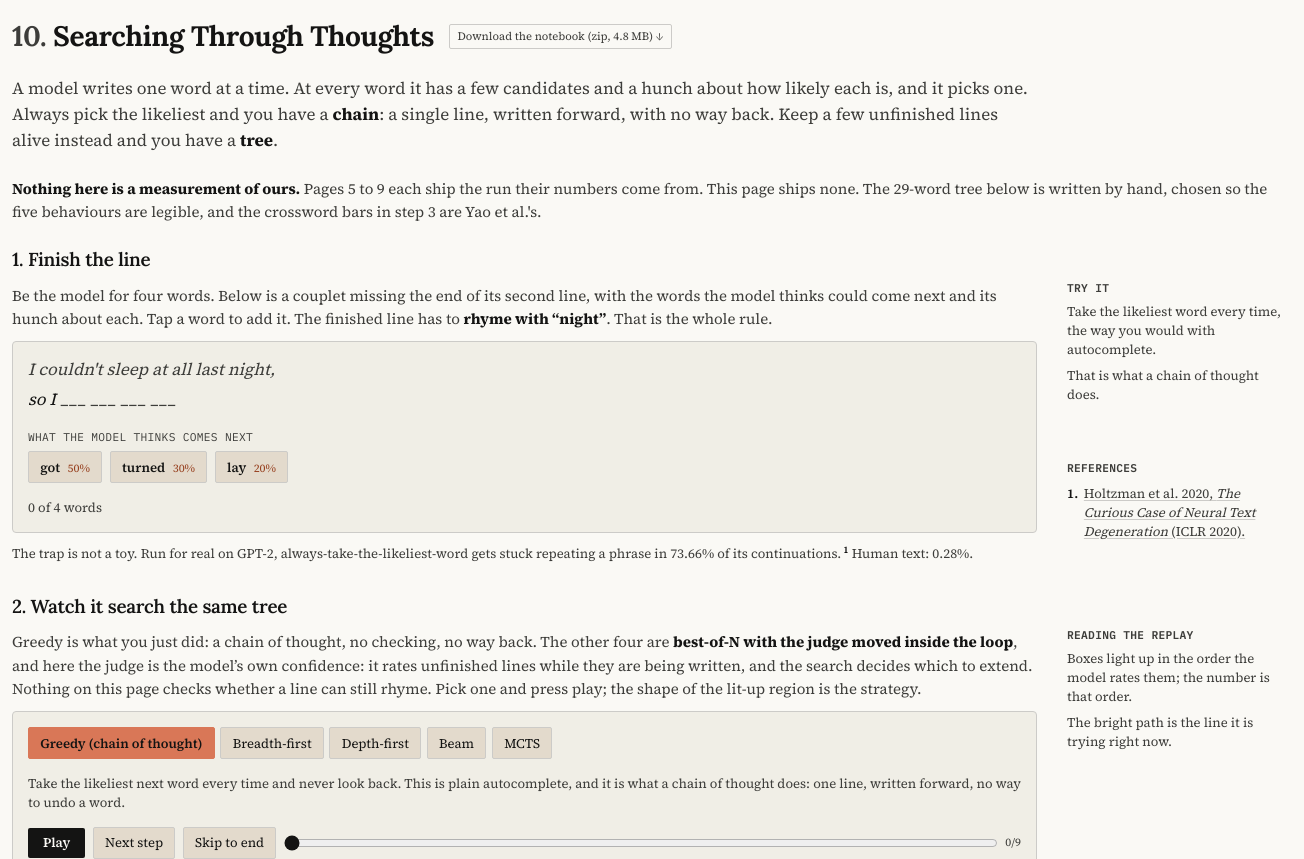
it: Page 10 — step 2, the replay › animates MCTS by whole trials, with the trace recording each
Click the button "MCTS": (522, 743) [492,727,552,759]
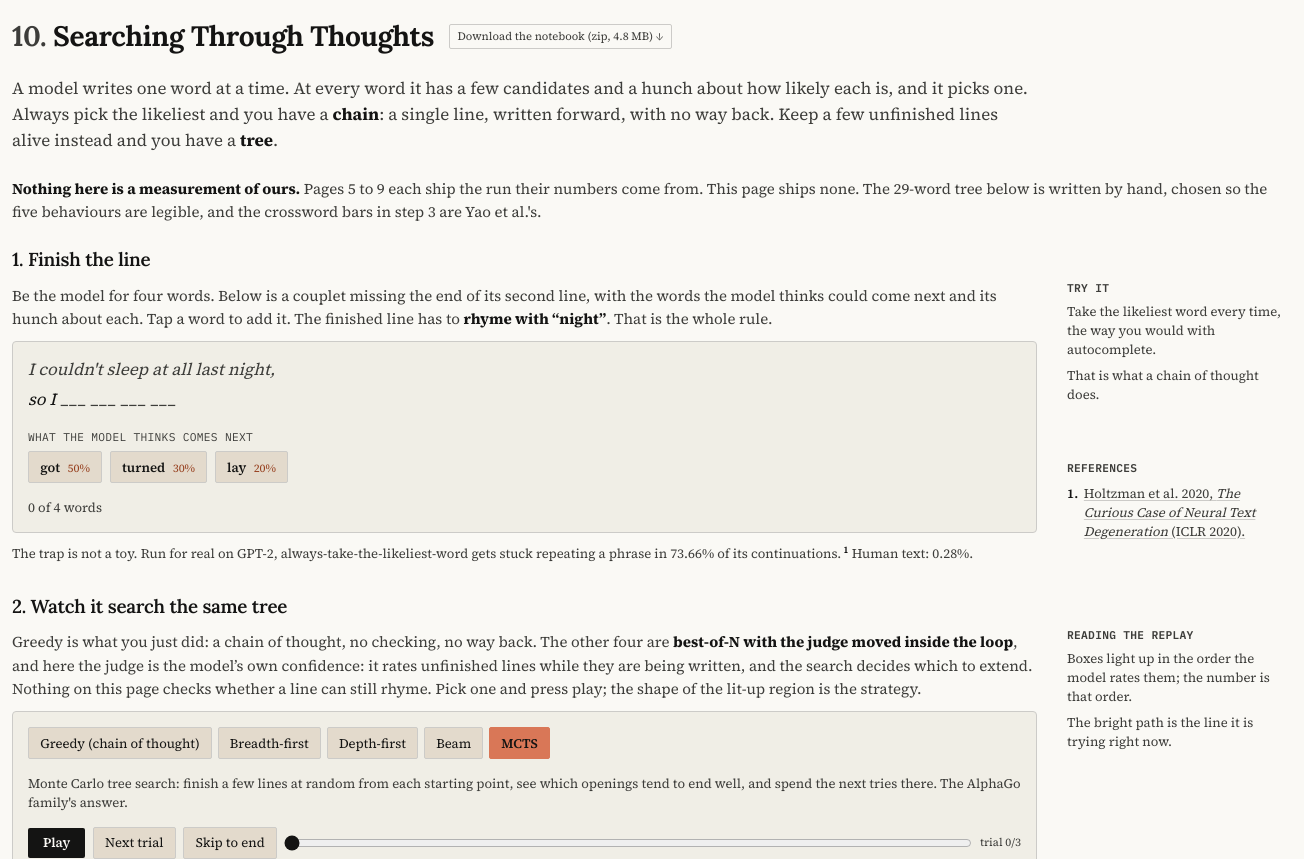
Expected: the text "trial 0/3" is shown, [980,835,1021,850]
Set the slider named "search step" to "1": (516, 843) [284,835,972,851]
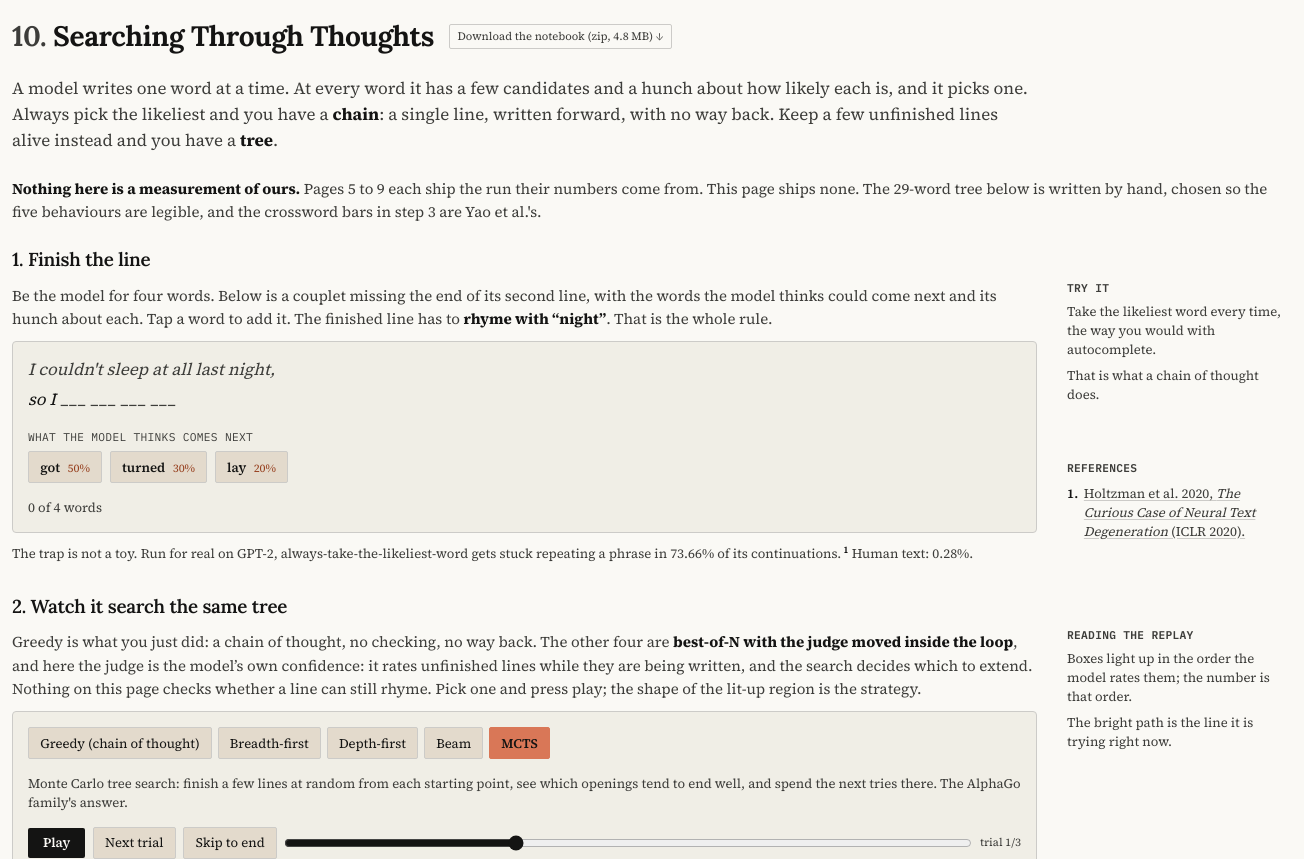
Set the slider named "search step" to "3": (964, 843) [284,835,972,851]
(page scrolled)
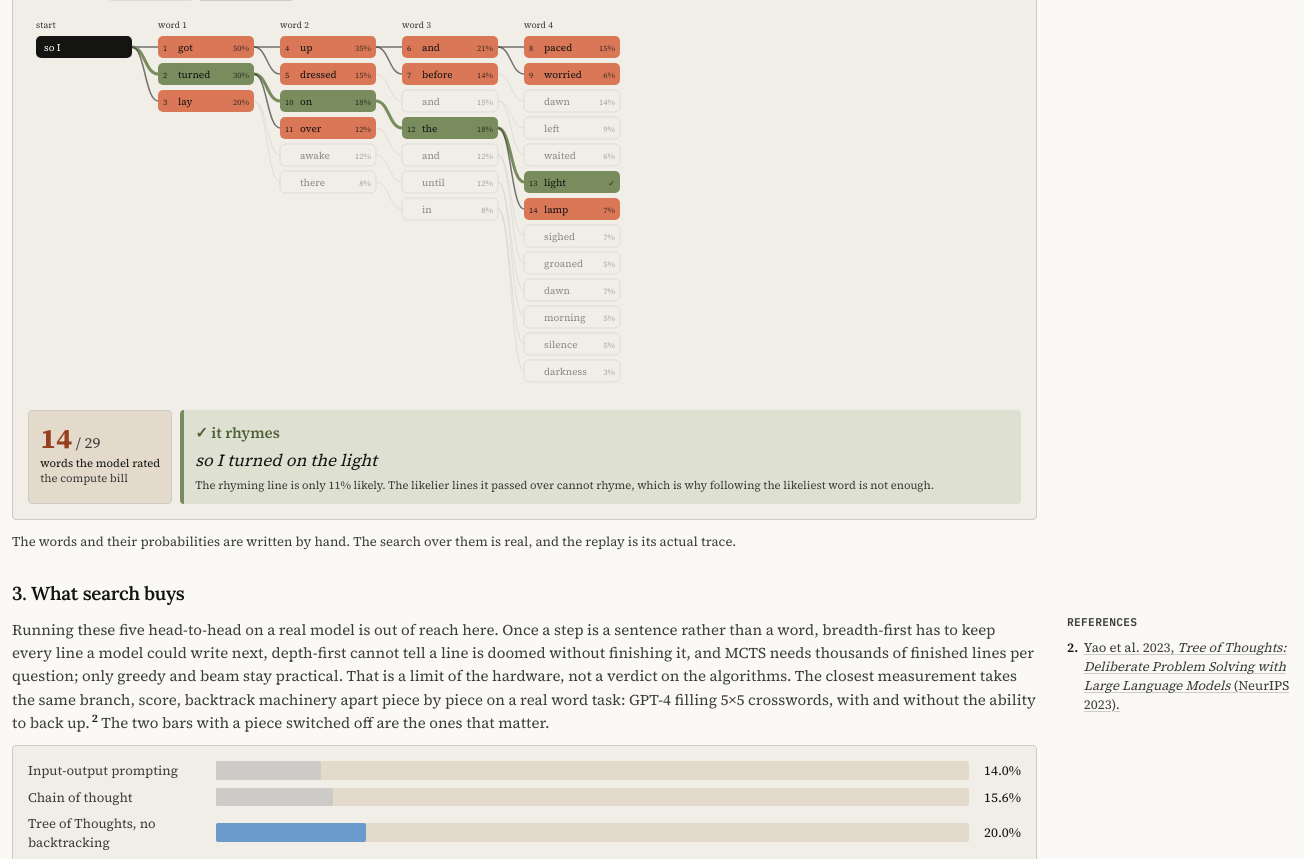
Expected: the text "✓ it rhymes" is shown, [195,422,280,443]
